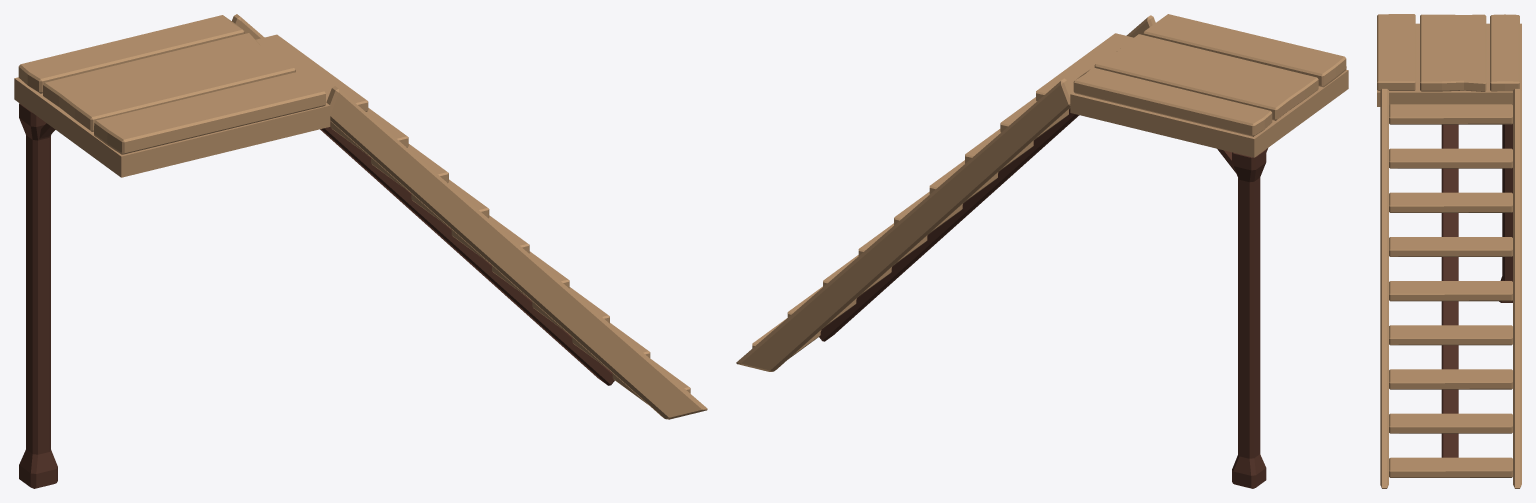
The model's file is Stairs B.fbx.
3 renders of one model, left to right at view 1: azimuth 30°, elevation 25°; view 2: azimuth 150°, elevation 25°; view 3: azimuth 270°, elevation 25°, orthographic. The views are drawn at different scales.
Parts seen in each view (by area): view 1: Stairs B; view 2: Stairs B; view 3: Stairs B.
Part boxes in pixels (x1,y1,x2,y2): Stairs B: [14, 14, 707, 488]; Stairs B: [736, 14, 1348, 488]; Stairs B: [1377, 14, 1521, 488].
Bounding box in the file's own units: 325 × 219 × 102.
